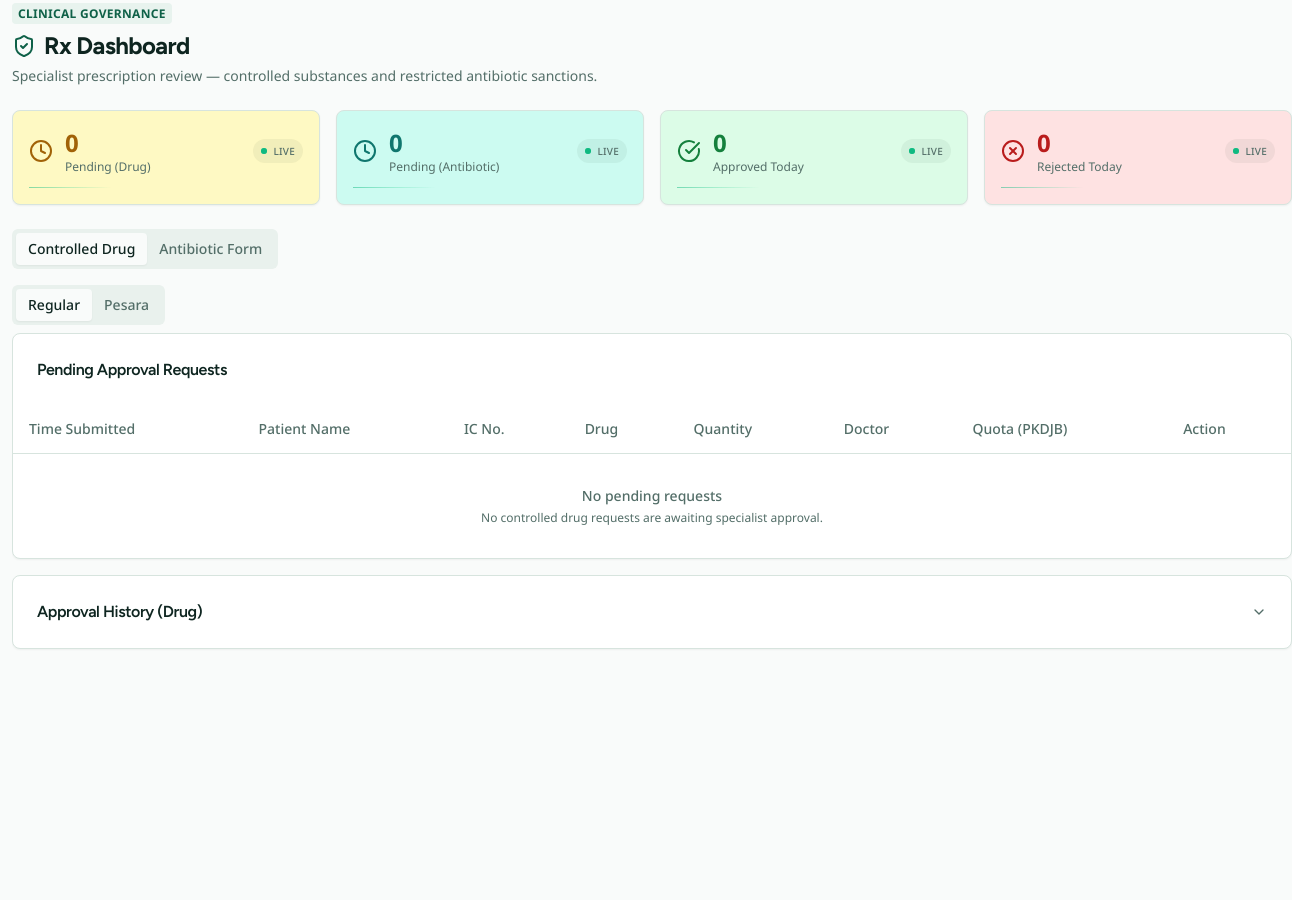
it: SpecialistDashboard › antibiotic forms table shows the prescribed antibiotic, not IC or NAG check
Note: Click the Antibiotik tab to reveal that table
Click the tab "Antibiotic Form". click: click(211, 249)
box: [147,233,274,265]
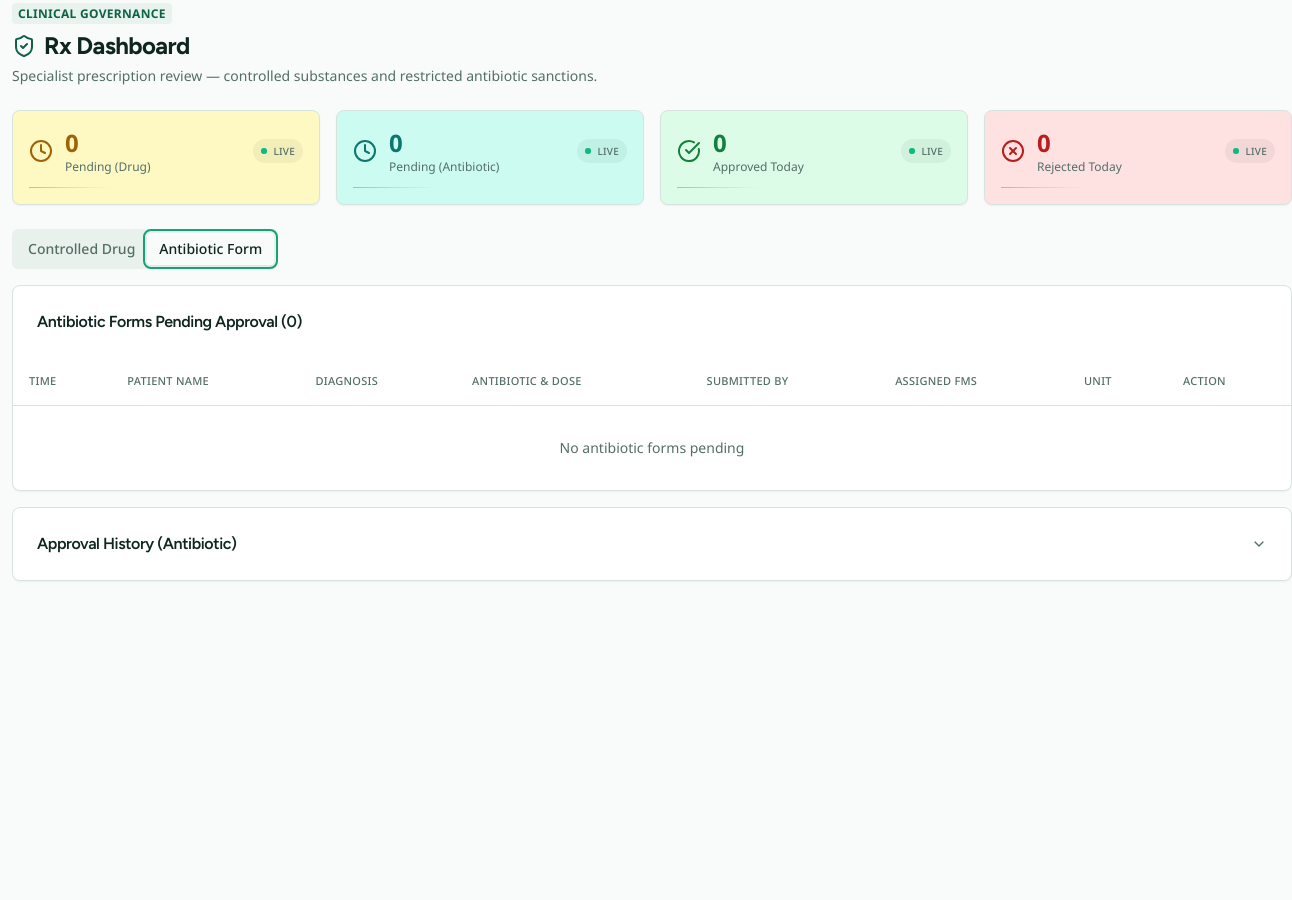
Expected: the column heading "Antibiotic & Dose" is shown, [456,358,691,406]
